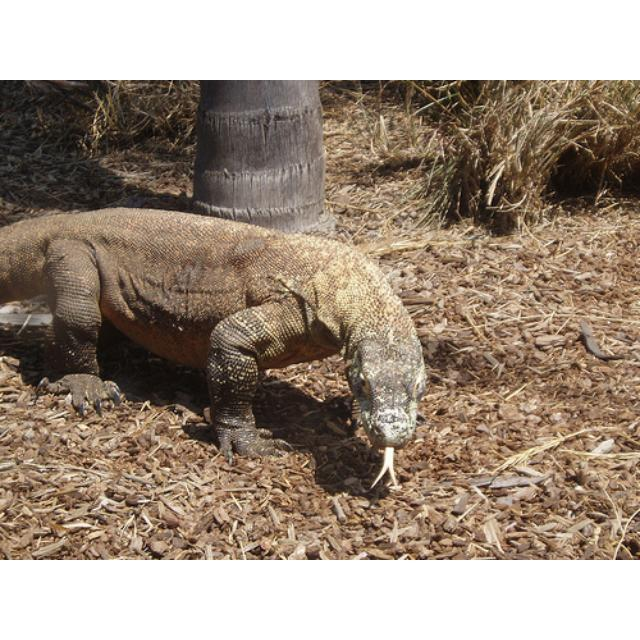KomodoDragon: (1, 205, 428, 490)
